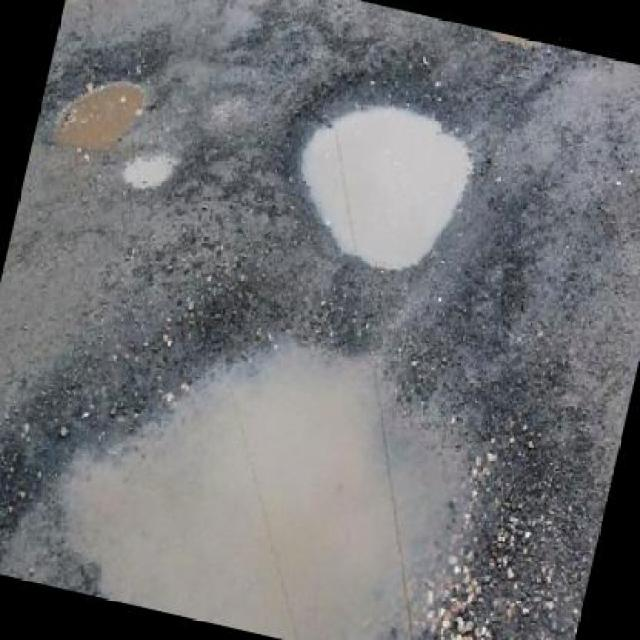pothole1: (0, 222, 551, 638), (267, 49, 505, 291), (34, 25, 172, 170), (118, 134, 184, 200)
